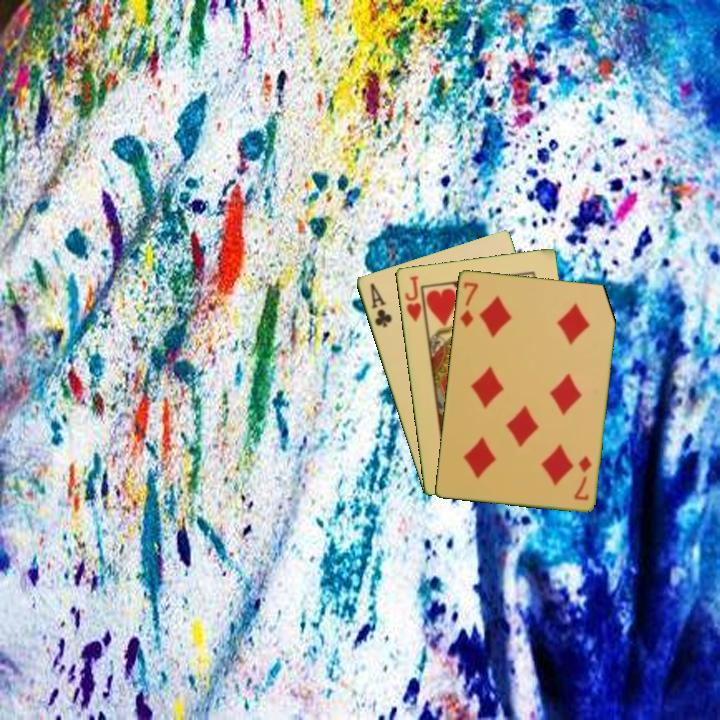7d: (456, 278, 481, 330), (570, 452, 594, 503)
Ac: (366, 279, 395, 330)
Jh: (401, 272, 428, 327)
